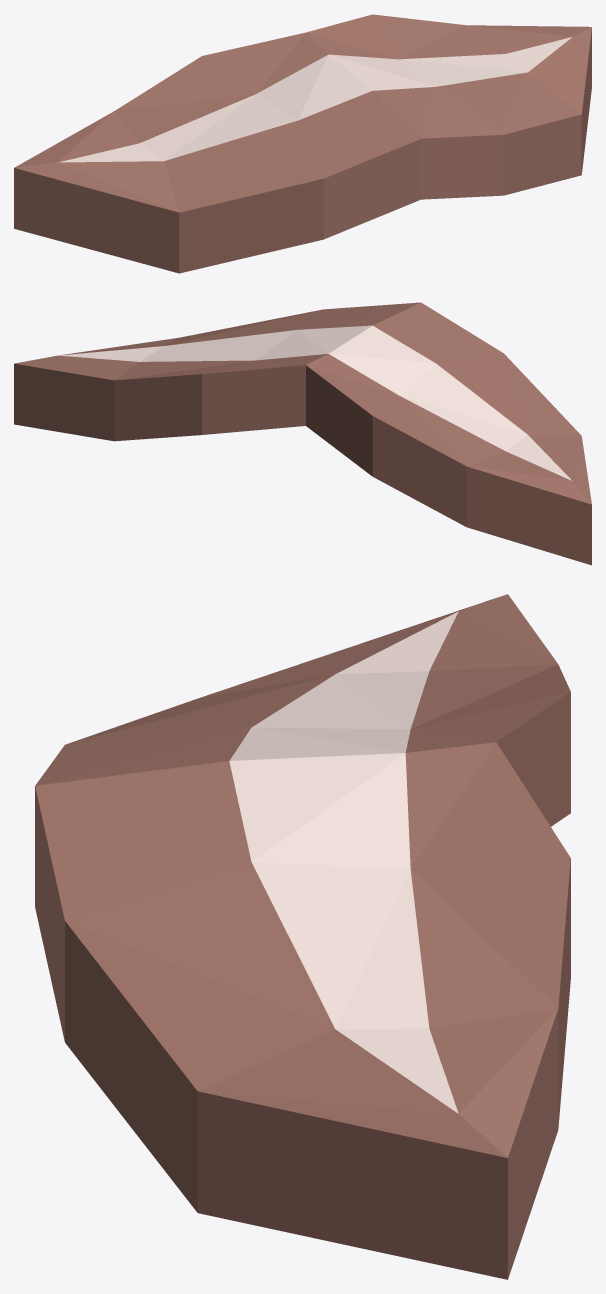
The model's file is Mouth 05.FBX.
3 renders of one model, top to bottom at view 1: azimuth 30°, elevation 25°; view 2: azimuth 150°, elevation 25°; view 3: azimuth 270°, elevation 25°, orthographic. The views are drawn at different scales.
Visible parts, largest first — view 1: Mouth 05; view 2: Mouth 05; view 3: Mouth 05.
Boxes of the visible parts, bbox=[...] form: Mouth 05: bbox=[14, 14, 591, 273]; Mouth 05: bbox=[14, 302, 591, 565]; Mouth 05: bbox=[35, 594, 570, 1279].
Bounding box in the file's own units: 8.17 × 3.28 × 1.85.
Materials: 1 (1 with a texture image).
